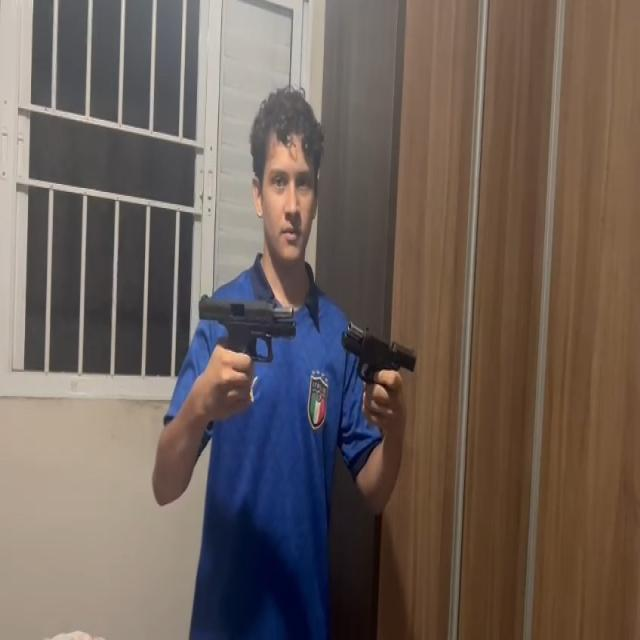gun: (196, 292, 301, 364), (340, 317, 418, 393)
